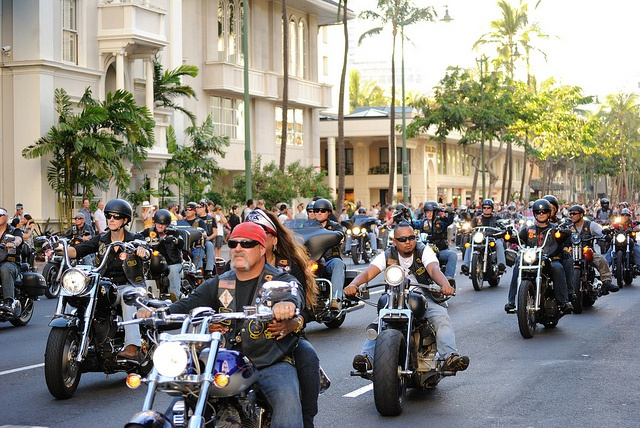non-vehicle: (112, 301, 274, 423), (35, 230, 146, 398), (342, 265, 456, 416), (281, 217, 365, 329), (503, 222, 569, 340), (0, 234, 48, 326), (142, 227, 196, 299), (389, 206, 455, 259), (461, 225, 508, 294), (569, 232, 605, 315), (601, 226, 639, 288), (341, 218, 375, 264), (41, 248, 65, 299)
